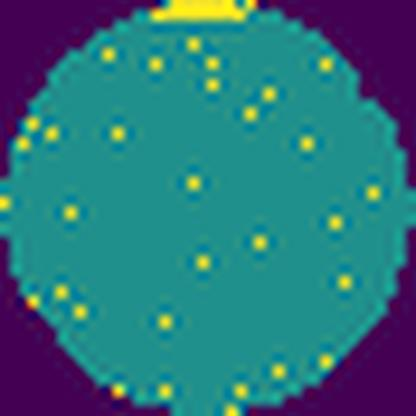Edge-Loc: (146, 0, 261, 27)
